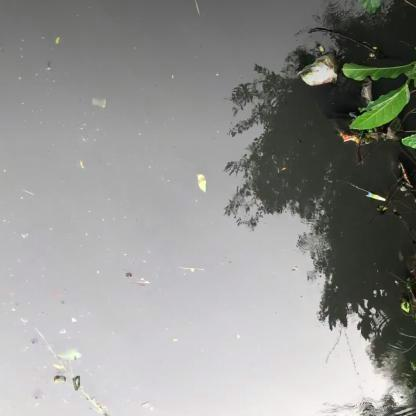Plastic: (88, 94, 108, 110)
Trash: (296, 51, 340, 90)
